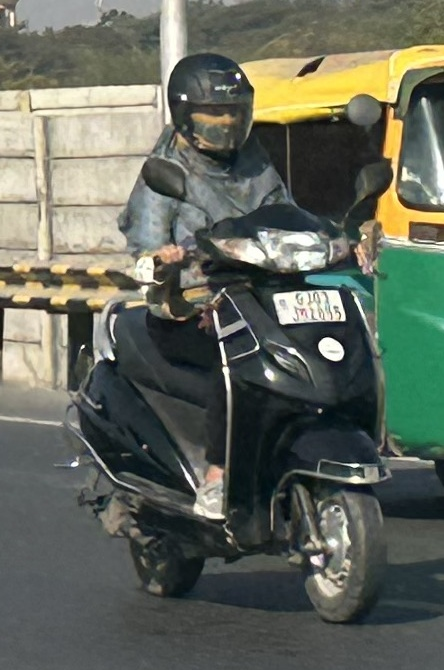BikeWithRider: (46, 35, 410, 631)
Helmet: (162, 52, 259, 161)
